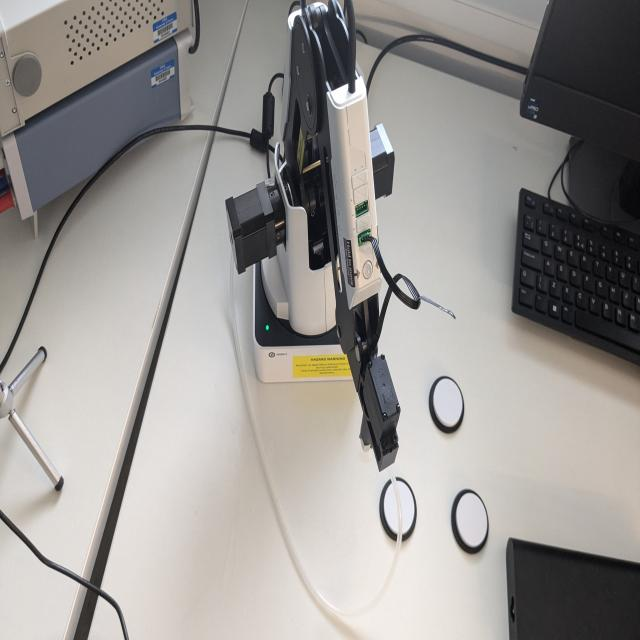Robot-end-effector-HF8z: (358, 349, 403, 473)
